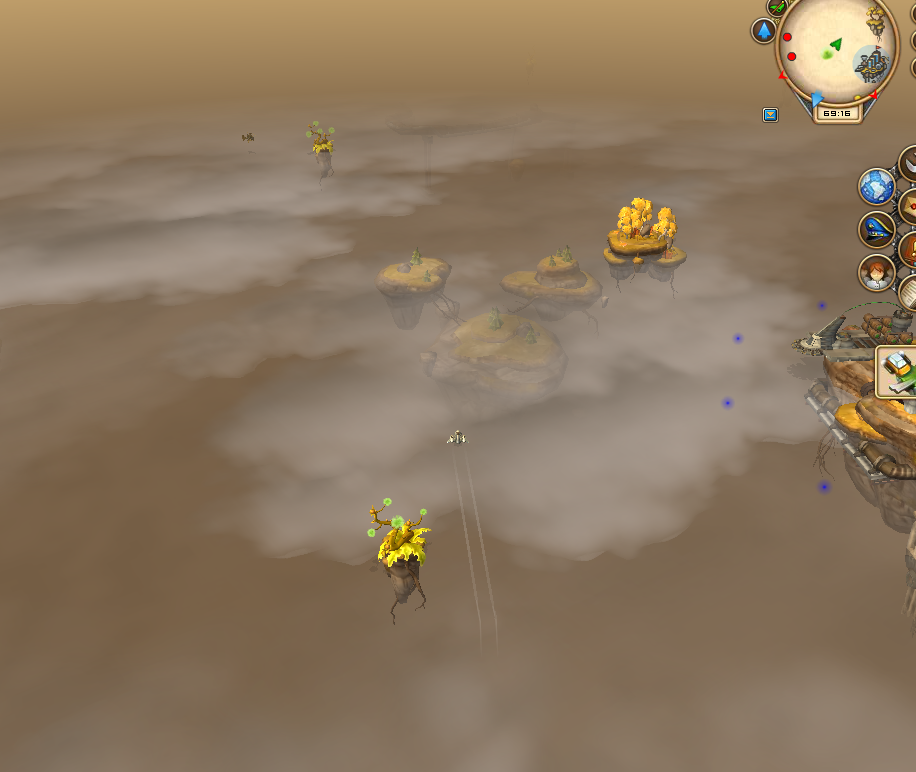dandelion-full: (365, 490, 434, 625), (303, 113, 341, 180)
